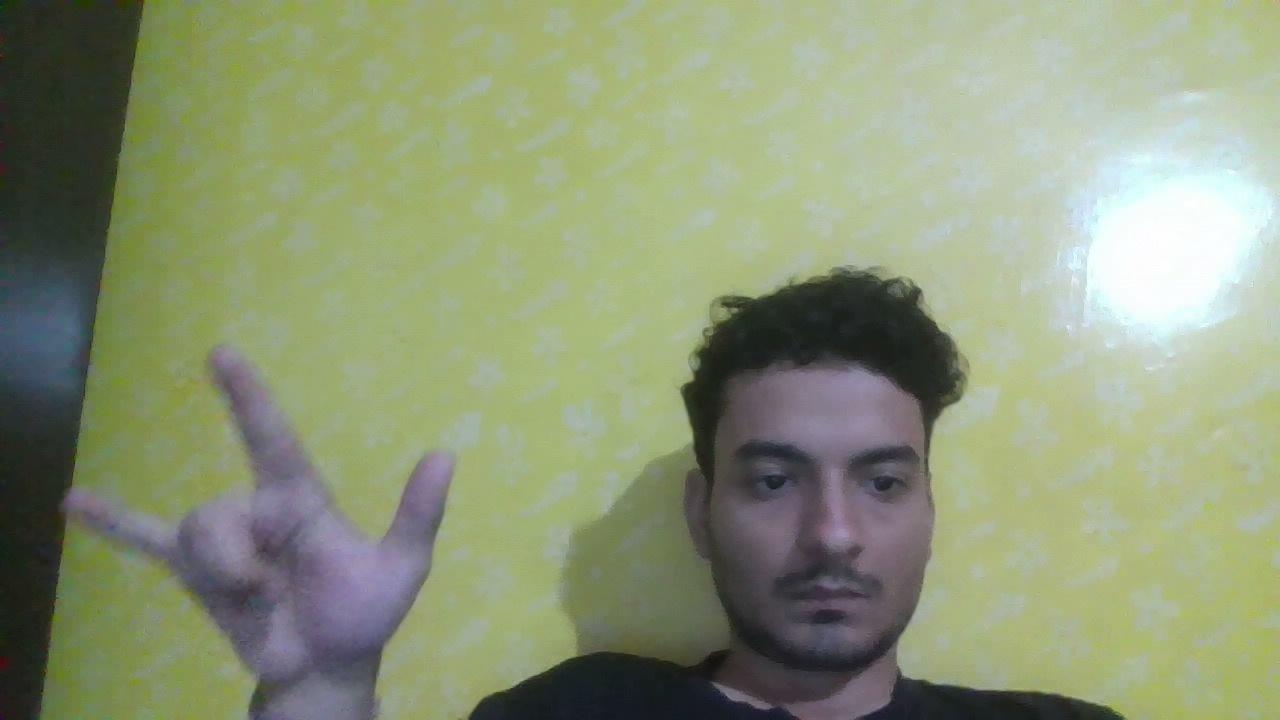Loveyou: (65, 342, 500, 684)
